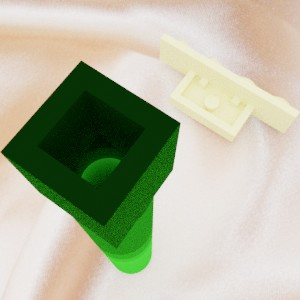lego: (0, 60, 180, 274), (159, 33, 300, 142)
